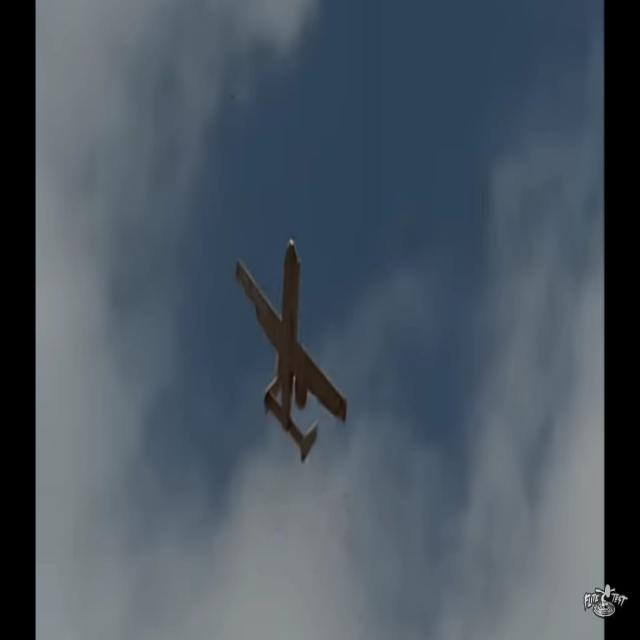iha: (269, 236, 317, 467)
